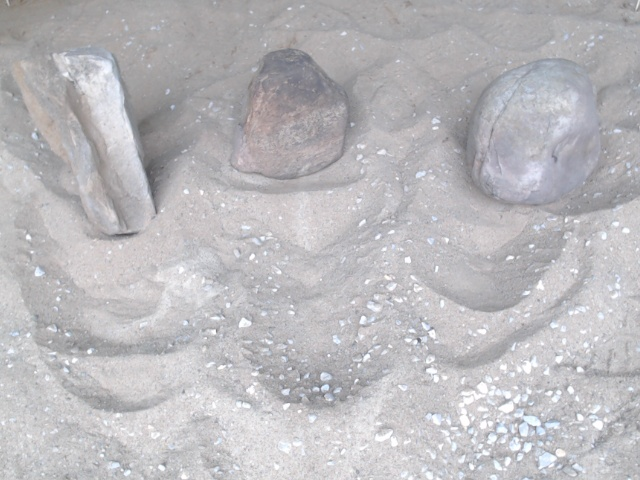rock: (6, 39, 161, 242), (459, 53, 605, 210), (224, 43, 354, 185)
